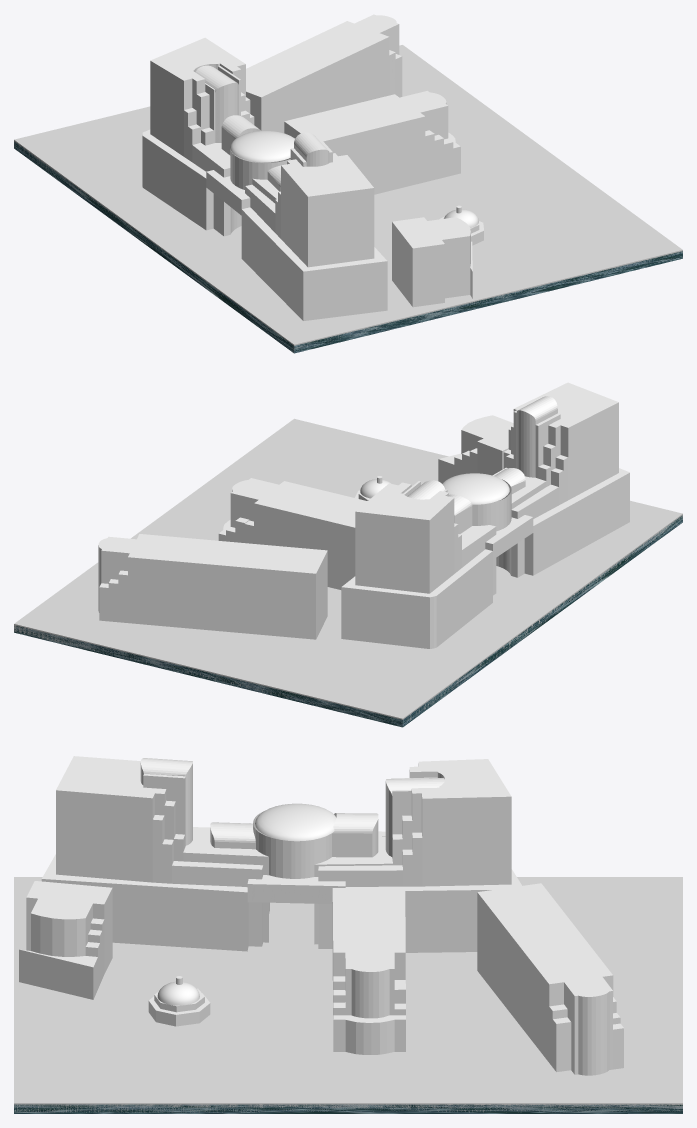
File: seaportanim.glb
3 views of the same model, one above another, from view 1: azimuth 30°, elevation 25°; view 2: azimuth 150°, elevation 25°; view 3: azimuth 270°, elevation 25° (orthographic). The views are drawn at different scales.
Visible parts, largest first — view 1: map_11.osm_buildings, Cube.001, Cube; view 2: map_11.osm_buildings, Cube.001, Cube; view 3: map_11.osm_buildings, Cube.001, Cube.
Part boxes in pixels (x1,y1,x2,y2): map_11.osm_buildings: [142, 14, 483, 320]; Cube.001: [14, 45, 682, 346]; Cube: [14, 141, 682, 353]; map_11.osm_buildings: [98, 382, 629, 648]; Cube.001: [14, 418, 682, 725]; Cube: [14, 515, 682, 727]; map_11.osm_buildings: [19, 756, 623, 1075]; Cube.001: [14, 877, 682, 1112]; Cube: [14, 1104, 682, 1113].
Size of the model in its own units: 0.0784 by 0.028 by 0.0979.
6 materials, 1 textured.
